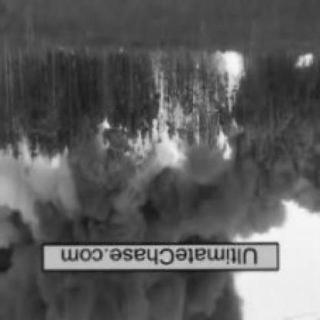Fire: (95, 45, 249, 169), (289, 48, 313, 80)
Smoke: (5, 174, 262, 317)
